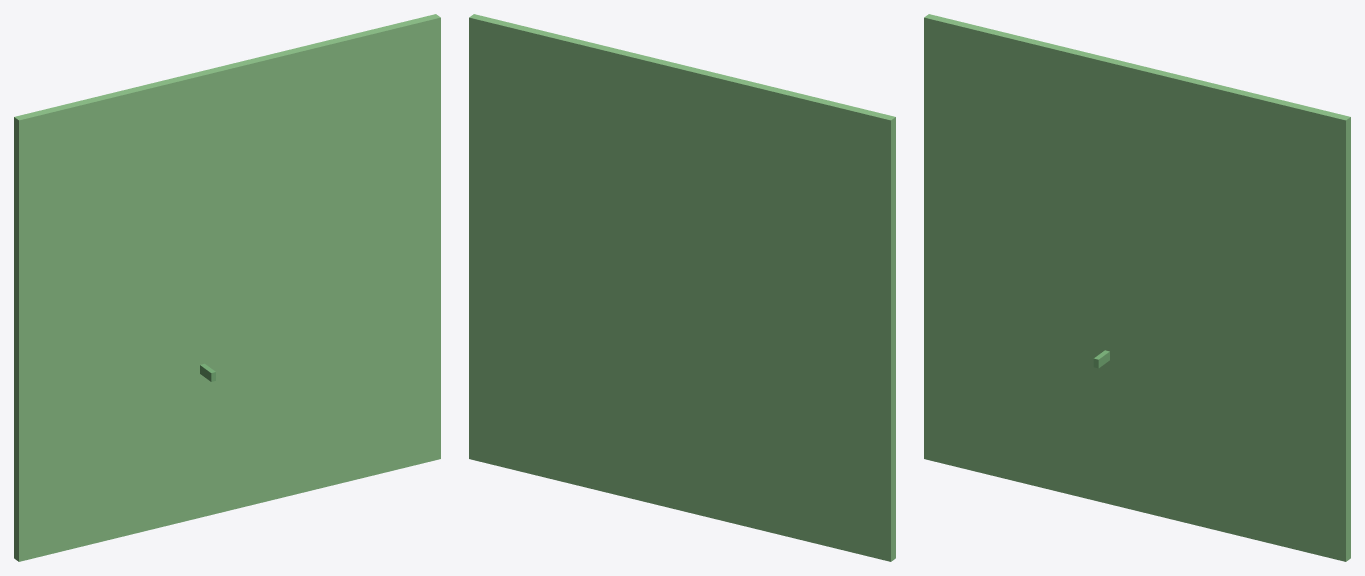
The model's file is env_grass_tile.glb.
The picture shows the model from 3 angles, left to right: view 1: azimuth 30°, elevation 25°; view 2: azimuth 150°, elevation 25°; view 3: azimuth 330°, elevation 25°; orthographic projection.
Visible parts, largest first — view 1: grass_tile; view 2: grass_tile; view 3: grass_tile.
Part boxes in pixels (x1,y1,x2,y2): grass_tile: (14,14,440,561); grass_tile: (469,14,895,561); grass_tile: (924,14,1350,561).
Size of the model in its own units: 3 by 3 by 0.1993.
